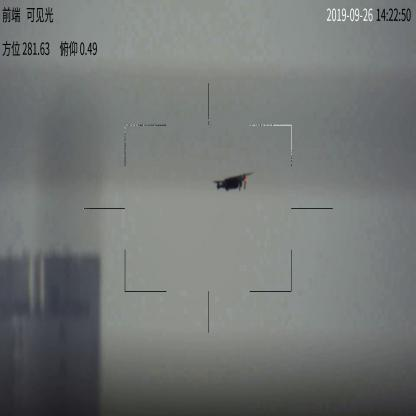uav: (213, 170, 254, 194)
